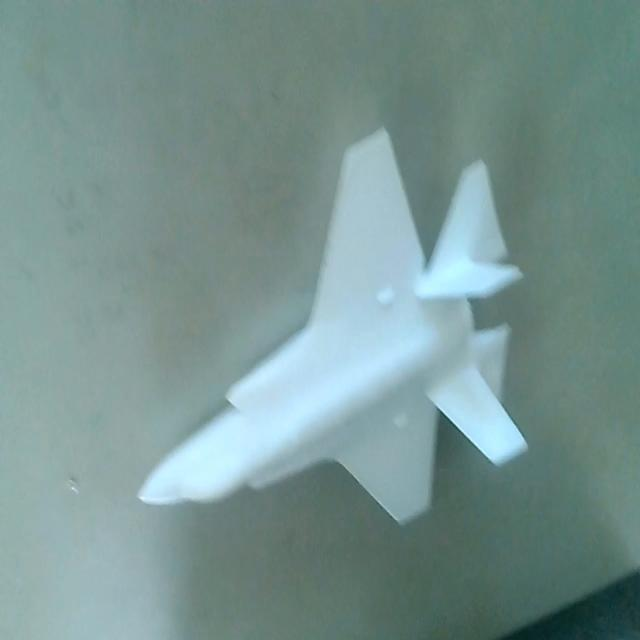Jet: (132, 120, 530, 553)
